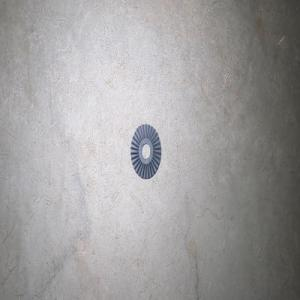Washer: (130, 123, 161, 179)
